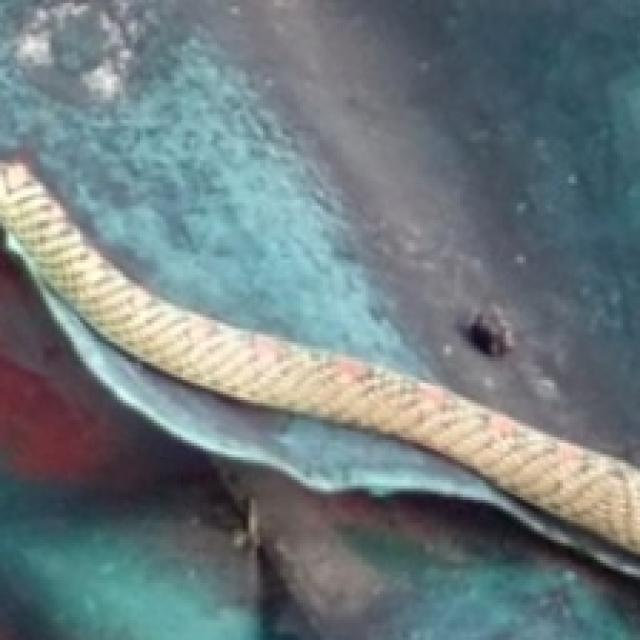paradise tree snake: (0, 163, 637, 577)
